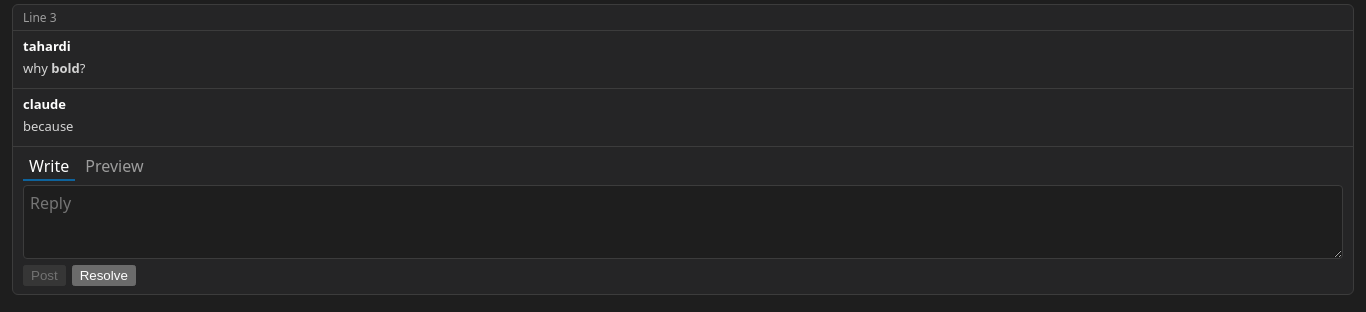
Scenario: CommentThread › disables Post while a post is in flight
In the text box labelled "Reply": x=683, y=222 [23,185,1343,259], type "thanks"
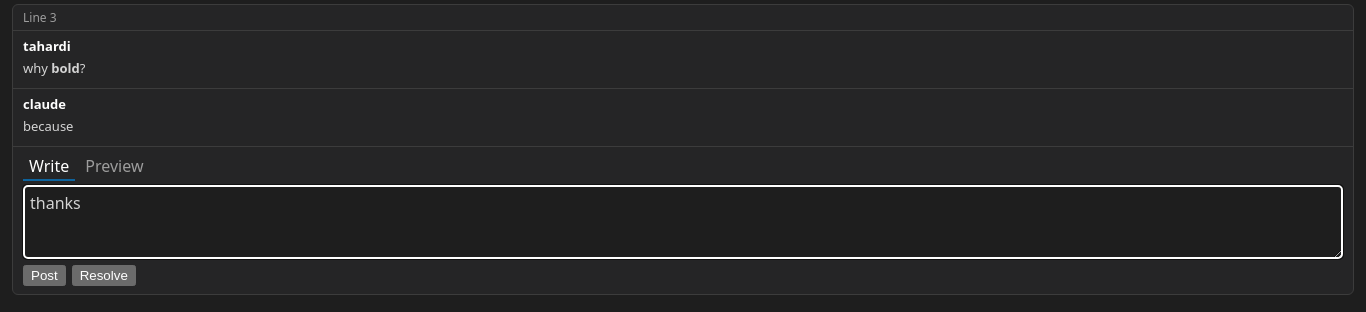
Click the button "Post": x=44, y=275 [23,265,66,286]
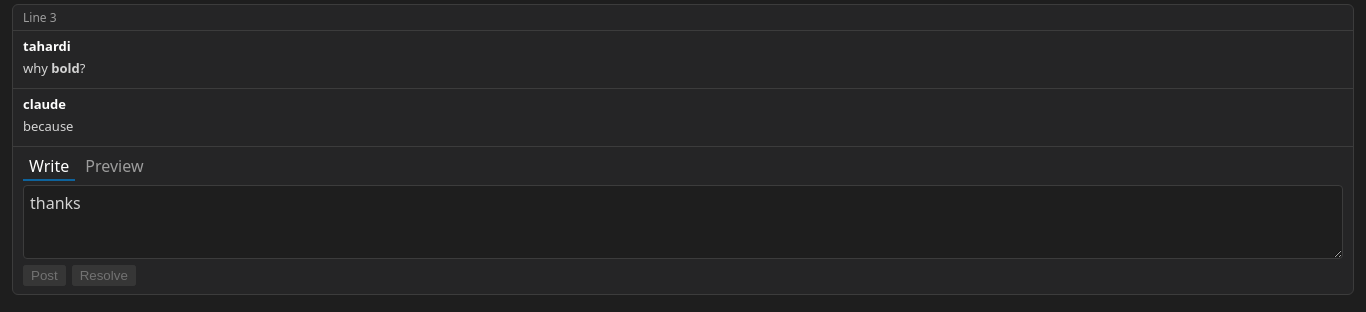
Now the button "Post" is disabled, box [23,265,66,286]
